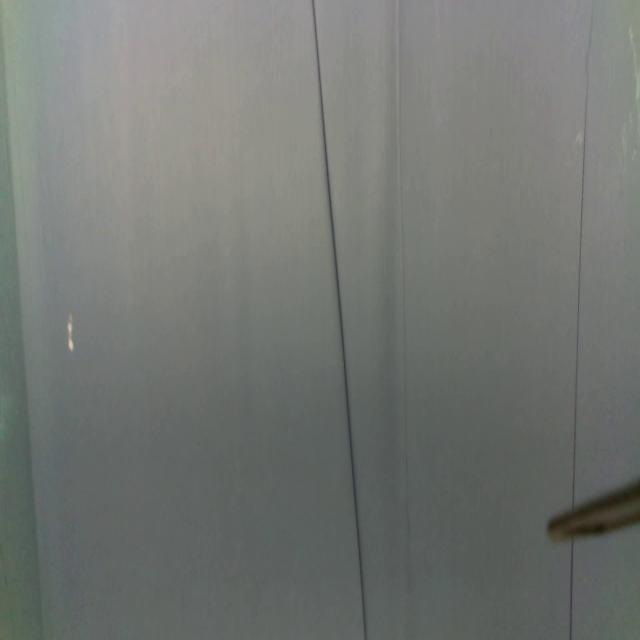crease: (312, 0, 368, 639), (394, 0, 414, 602), (571, 9, 595, 498), (568, 533, 576, 640)
hole: (65, 314, 78, 355)
